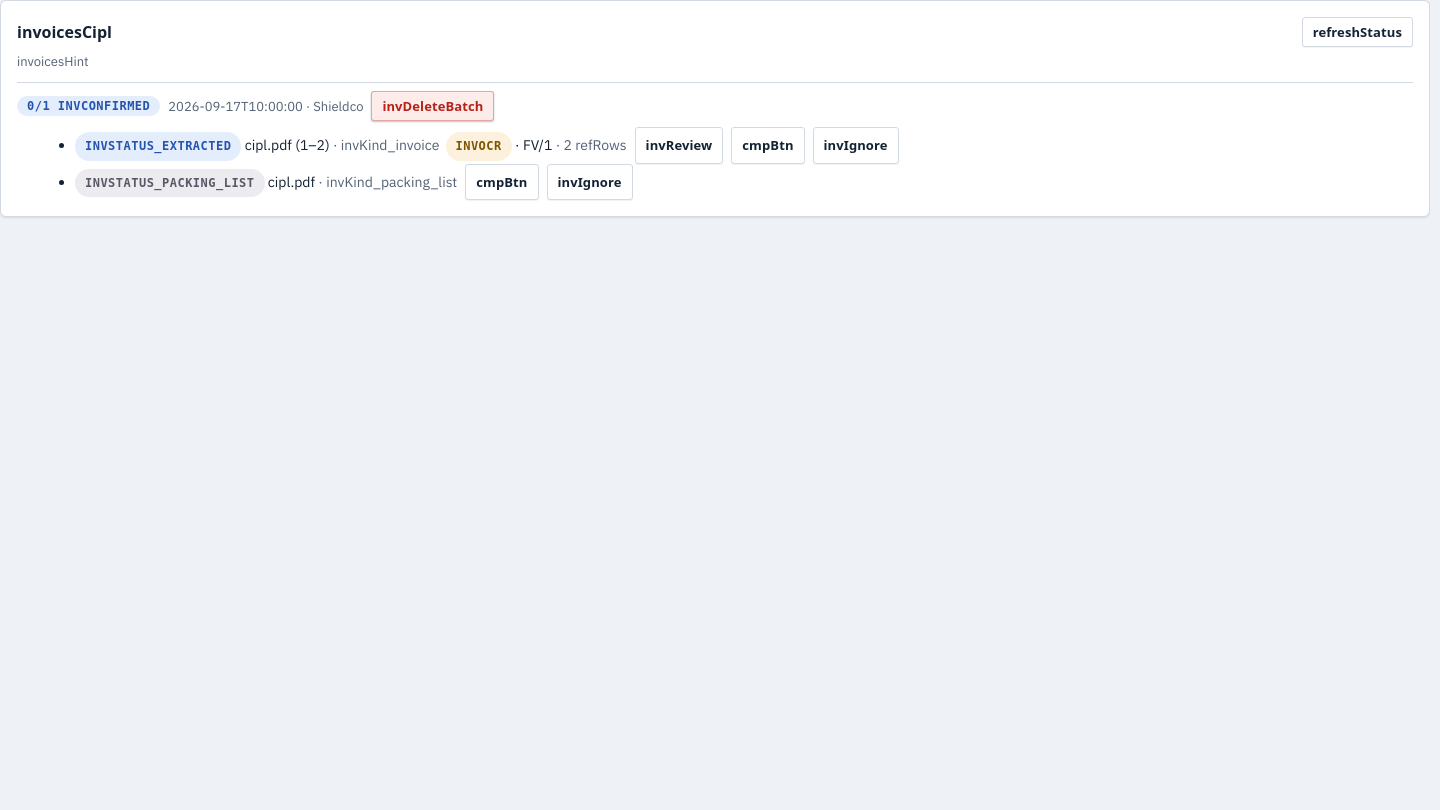
Test case: InvoiceBatchesPanel — pominięte dokumenty i numer faktury › disables Confirm until the invoice number is filled in
This screenshot has width=1440, height=810.
Click the button "invReview" at [679, 145], box left=635, top=127, right=723, bottom=164
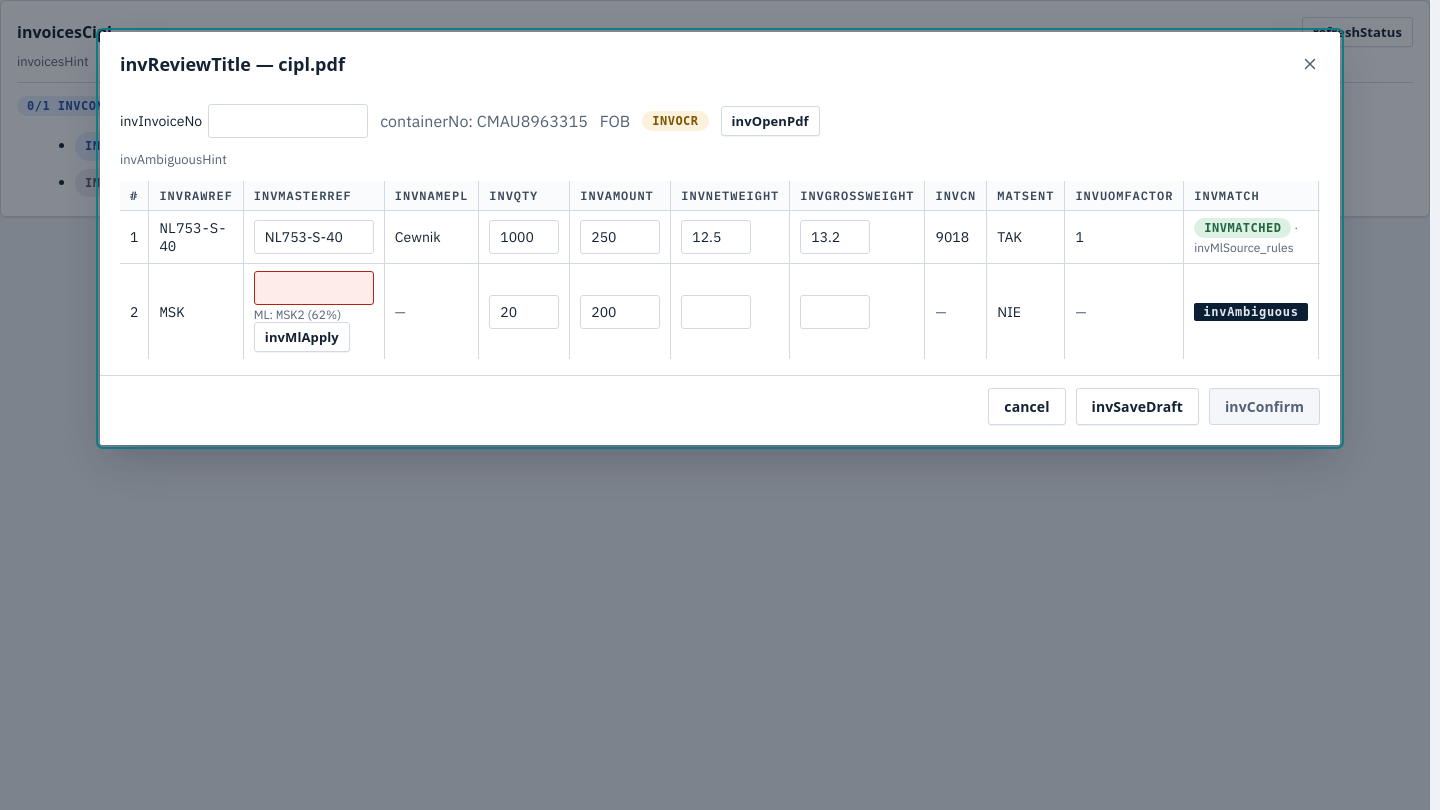
Check: the text "Cewnik" is shown, box left=384, top=211, right=479, bottom=264
Check: the button "invConfirm" is disabled, box left=1209, top=388, right=1320, bottom=425
Type "FV/9" into the field labelled "invInvoiceNo" at [288, 121], box left=208, top=104, right=368, bottom=138
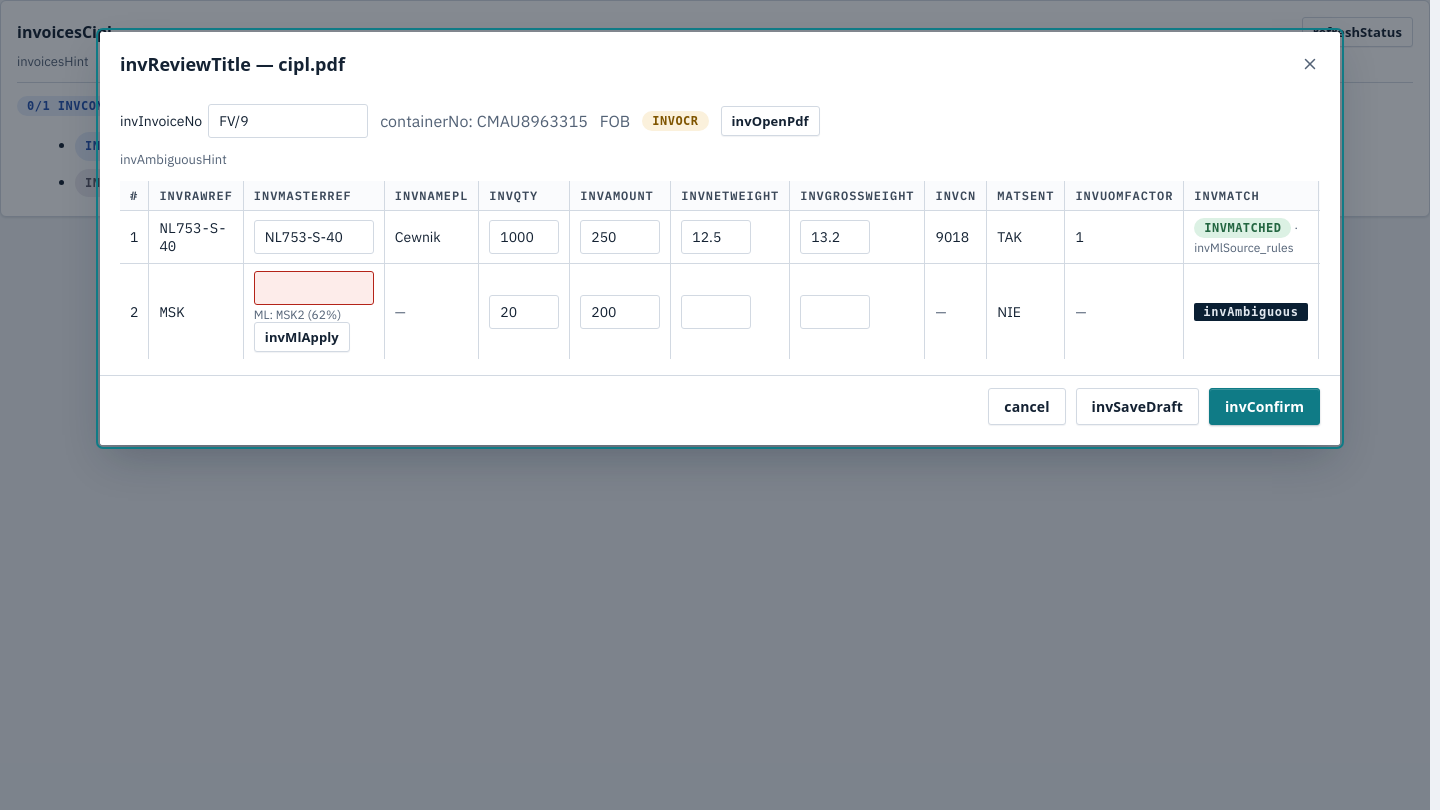
Check: the button "invConfirm" is enabled, box left=1209, top=388, right=1320, bottom=425
